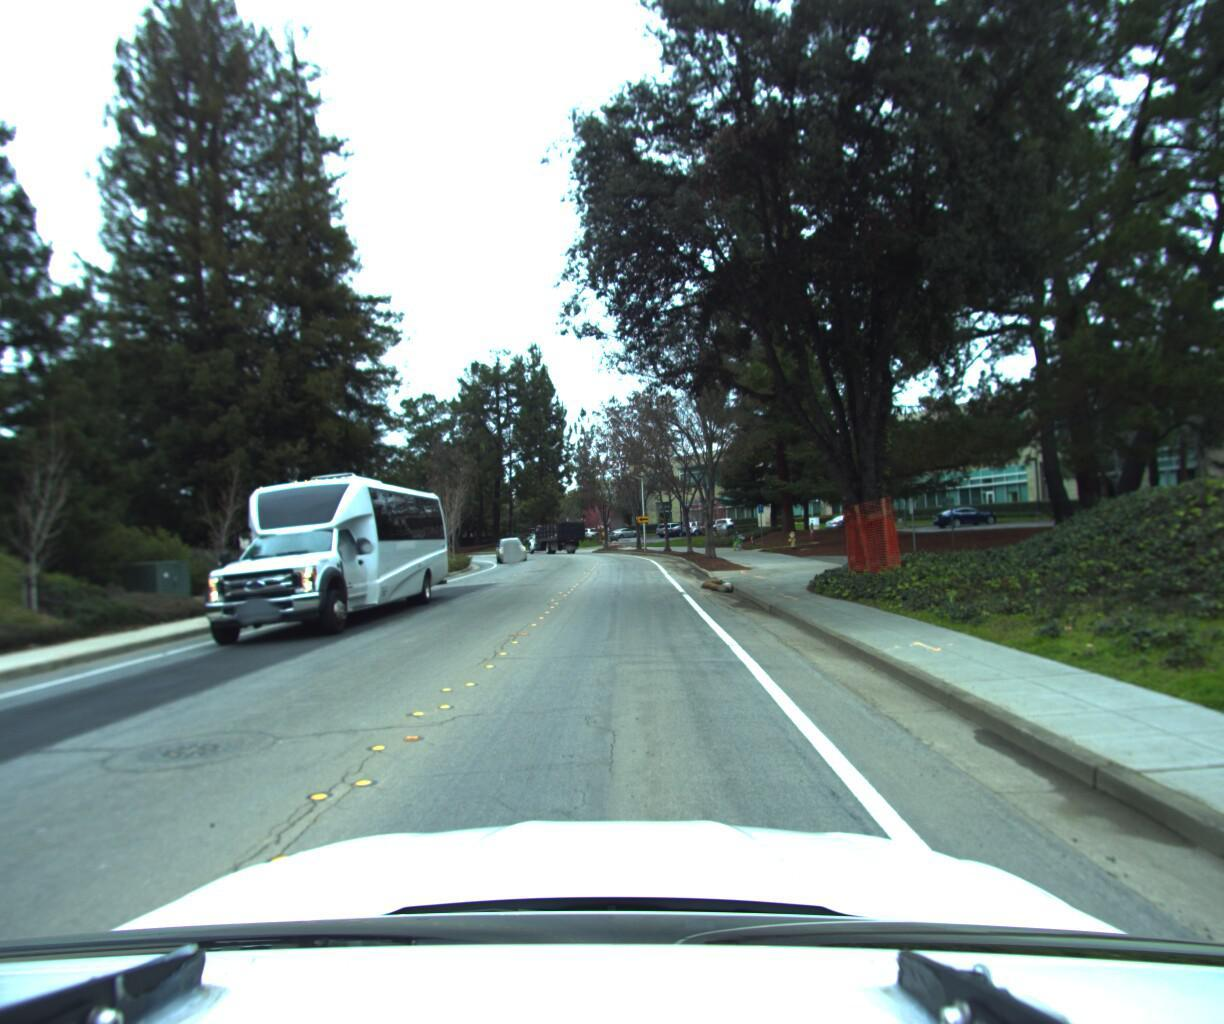bicycle: (726, 526, 747, 547)
bus: (161, 447, 455, 661)
car: (490, 531, 525, 562)
truck: (524, 510, 588, 553)
